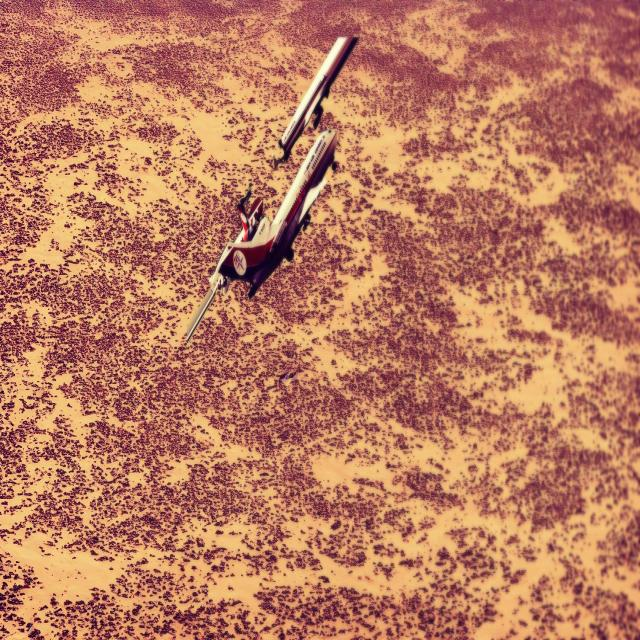airplane: (184, 36, 358, 343)
